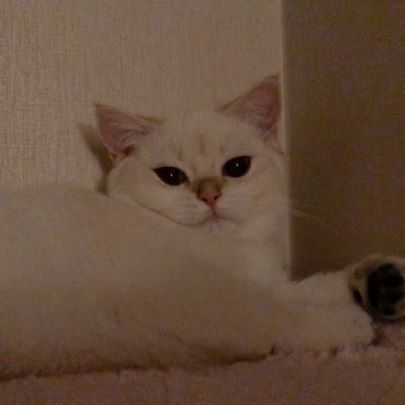cat: (90, 73, 291, 238)
